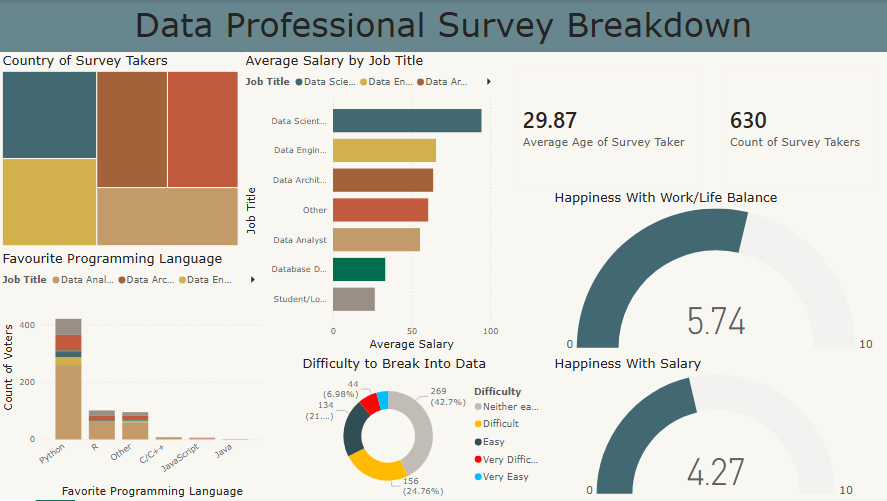

This screenshot's page, from the dashboard's own definition file:
{"tool":"powerbi","page":{"name":"Page 1","canvas":[1280,720],"ordinal":0},"visuals":[{"type":"textbox","box":[0,0,1280,75.6],"z":0},{"type":"cardVisual","fields":{"Data":["Count(Data Professional Survey.Unique ID)"]},"box":[1023,75.6,257,210],"z":1},{"type":"cardVisual","fields":{"Data":["Avg(Data Professional Survey.Q10 - Current Age)"]},"box":[724,75.6,299,210],"z":2},{"type":"barChart","title":"Average Salary by Job Title","fields":{"Category":["Data Professional Survey.Q1 - Which Title Best Fits your Current Role?.1"],"Y":["Avg(Data Professional Survey.Average Salary)"],"Series":["Data Professional Survey.Q1 - Which Title Best Fits your Current Role?.1"]},"box":[349.4,75.6,374.6,435.1],"z":3},{"type":"columnChart","title":"Favourite Programming Language","fields":{"Category":["Data Professional Survey.Q5 - Favorite Programming Language.1"],"Y":["CountNonNull(Data Professional Survey.Unique ID)"],"Series":["Data Professional Survey.Q1 - Which Title Best Fits your Current Role?.1"]},"box":[0,359.5,384.7,361.2],"z":4},{"type":"treemap","title":"Country of Survey Takers","fields":{"Group":["Data Professional Survey.Q11 - Which Country do you live in?.1"],"Values":["Count(Data Professional Survey.Q11 - Which Country do you live in?.1)"]},"box":[0,75.6,349.4,283.9],"z":5},{"type":"gauge","title":"Happiness With Work/Life Balance","fields":{"Y":["Avg(Data Professional Survey.Q6 - How Happy are you in your Current Position with the following? (Work/Life Balance))"],"MinValue":["Min(Data Professional Survey.Q6 - How Happy are you in your Current Position with the following? (Work/Life Balance))1"],"MaxValue":["Max(Data Professional Survey.Q6 - How Happy are you in your Current Position with the following? (Work/Life Balance))2"]},"box":[794.5,272.1,485.5,238.5],"z":6},{"type":"gauge","title":"Happiness With Salary","fields":{"Y":["Avg(Data Professional Survey.Q6 - How Happy are you in your Current Position with the following? (Salary))"],"MinValue":["Min(Data Professional Survey.Q6 - How Happy are you in your Current Position with the following? (Salary))"],"MaxValue":["Max(Data Professional Survey.Q6 - How Happy are you in your Current Position with the following? (Salary))"]},"box":[794.5,510.7,485.5,210],"z":7},{"type":"donutChart","title":"Difficulty to Break Into Data","fields":{"Category":["Data Professional Survey.Q7 - How difficult was it for you to break into Data?"],"Y":["CountNonNull(Data Professional Survey.Q7 - How difficult was it for you to break into Data?)"]},"box":[431.7,510.7,362.8,210],"z":8}]}

Visuals, with their boxes in screenshot pixels (x1, y1, x2, y2), scaled from the page's 1280x720 canvas onto the 887x501 screenshot:
textbox: crop(0, 0, 886, 53)
cardVisual - Count(Data Professional Survey.Unique ID): crop(709, 53, 886, 199)
cardVisual - Avg(Data Professional Survey.Q10 - Current Age): crop(502, 53, 709, 199)
"Average Salary by Job Title" barChart: crop(242, 53, 502, 355)
"Favourite Programming Language" columnChart: crop(0, 250, 267, 500)
"Country of Survey Takers" treemap: crop(0, 53, 242, 250)
"Happiness With Work/Life Balance" gauge: crop(551, 189, 886, 355)
"Happiness With Salary" gauge: crop(551, 355, 886, 500)
"Difficulty to Break Into Data" donutChart: crop(299, 355, 551, 500)
